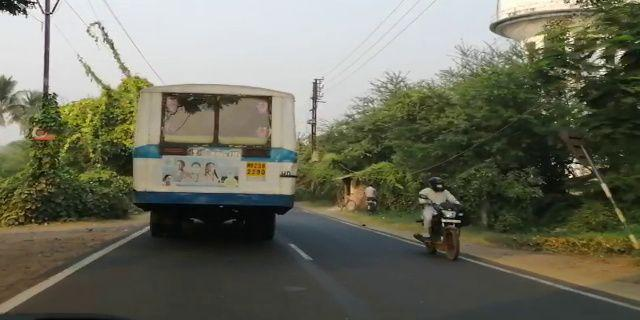Bus: (129, 77, 299, 249)
Motorbike: (407, 176, 469, 261)
